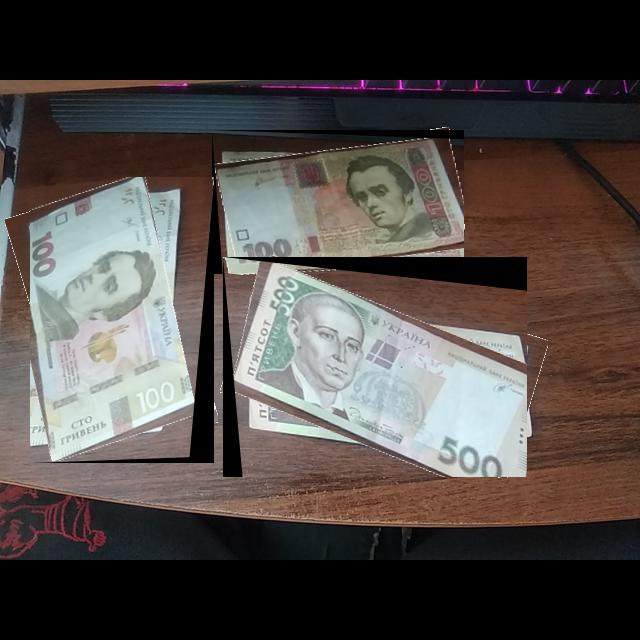100uah: (30, 177, 199, 463), (215, 136, 465, 275)
500uah: (232, 262, 528, 478)
